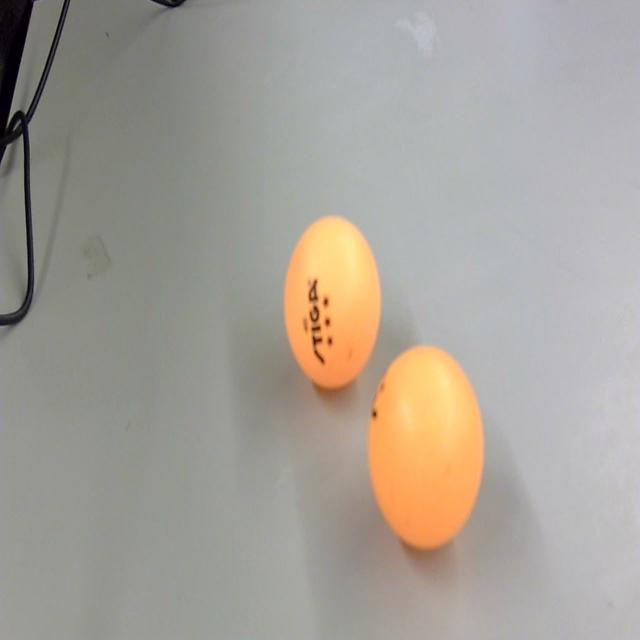ball: (363, 343, 486, 552), (283, 212, 384, 393)
